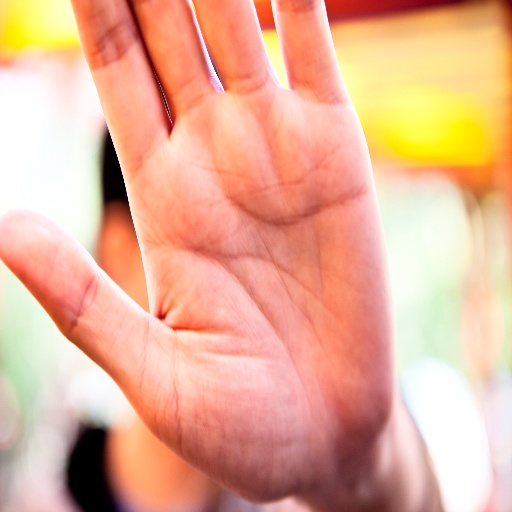hand: (0, 0, 395, 507)
